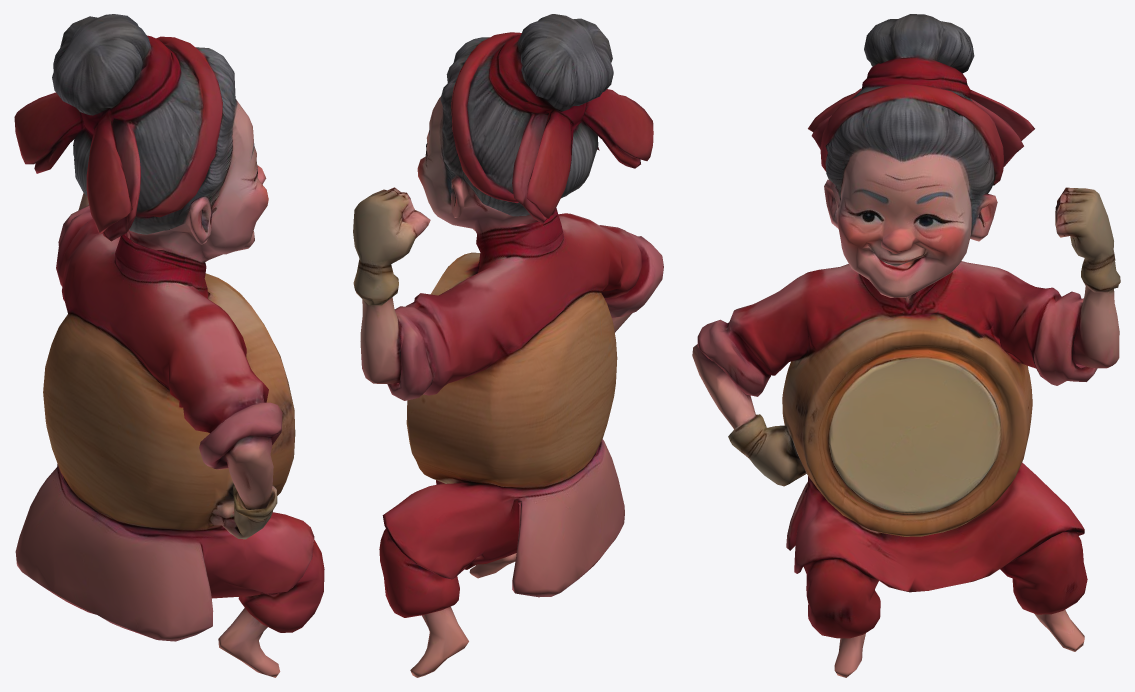
File: n_duanjin.glb
3 renders of one model, left to right at view 1: azimuth 30°, elevation 25°; view 2: azimuth 150°, elevation 25°; view 3: azimuth 270°, elevation 25°, orthographic. The views are drawn at different scales.
Parts seen in each view (by area): view 1: tripo_node_fc76922d-e0e6-4346-8724-a18427ba6dd7; view 2: tripo_node_fc76922d-e0e6-4346-8724-a18427ba6dd7; view 3: tripo_node_fc76922d-e0e6-4346-8724-a18427ba6dd7.
Part boxes in pixels (x1,y1,x2,y2): tripo_node_fc76922d-e0e6-4346-8724-a18427ba6dd7: (14, 14, 324, 677); tripo_node_fc76922d-e0e6-4346-8724-a18427ba6dd7: (353, 14, 663, 677); tripo_node_fc76922d-e0e6-4346-8724-a18427ba6dd7: (692, 14, 1120, 677).
Bounding box in the file's own units: 0.3565 × 0.9998 × 0.6443.
1 material, 1 textured.
